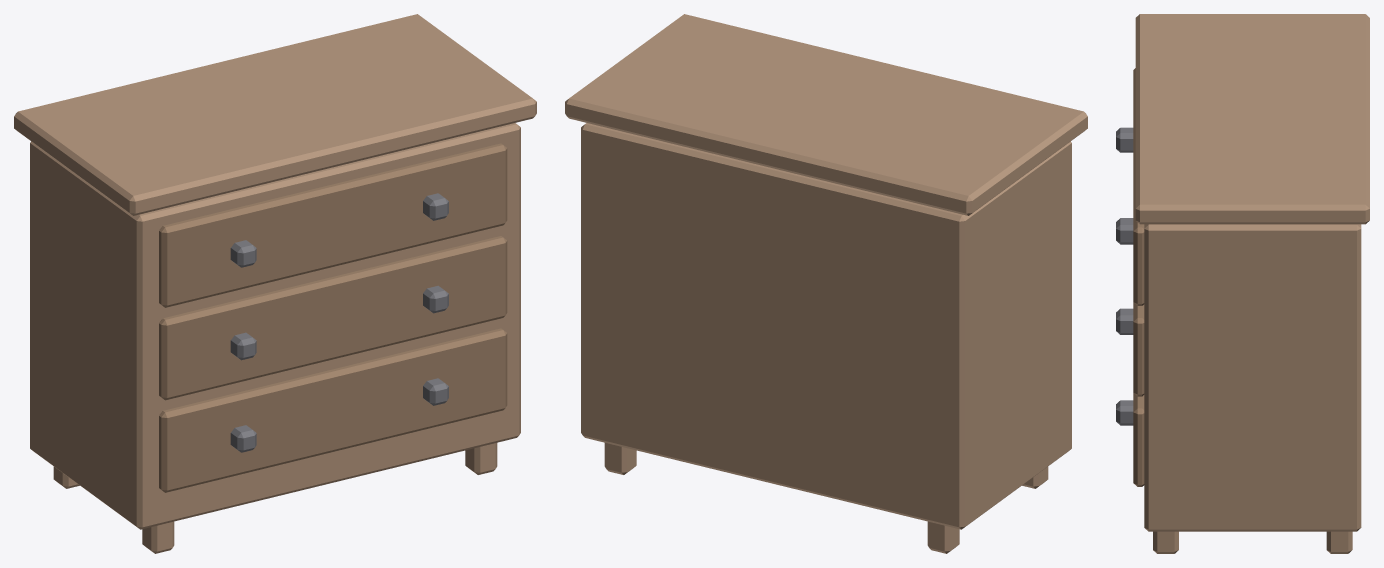
File: SM_Dresser_01.fbx
The picture shows the model from 3 angles, left to right: view 1: azimuth 30°, elevation 25°; view 2: azimuth 150°, elevation 25°; view 3: azimuth 270°, elevation 25°; orthographic projection. The views are drawn at different scales.
Visible parts, largest first — view 1: Dresser_01; view 2: Dresser_01; view 3: Dresser_01.
Part boxes in pixels (<box>): Dresser_01: <box>14,14,536,553</box>; Dresser_01: <box>565,14,1087,553</box>; Dresser_01: <box>1116,14,1369,553</box>.
Bounding box in the file's own units: 106 × 92.5 × 58.5.
